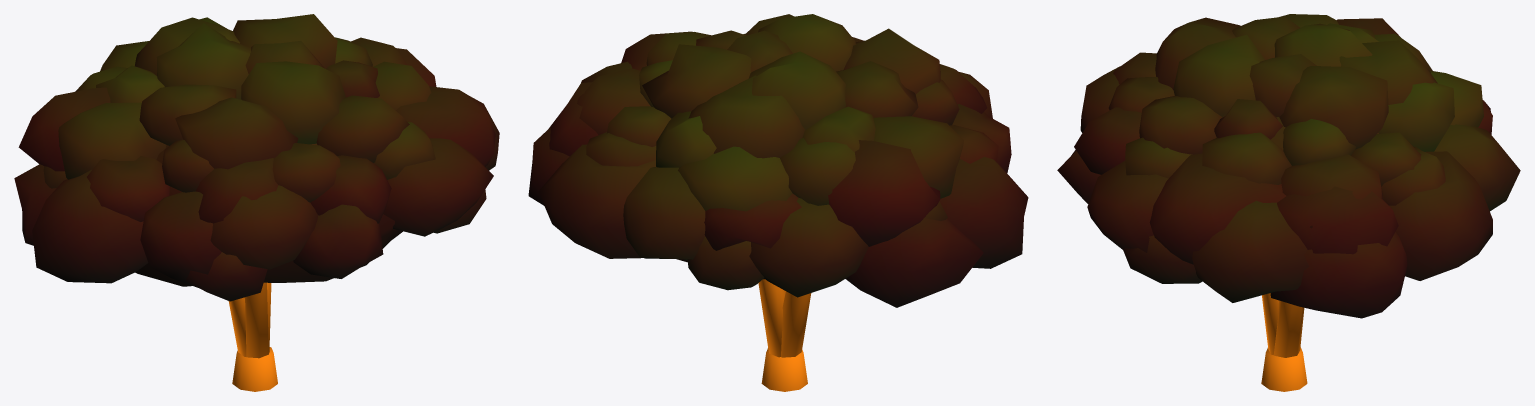
File: Oak_B.fbx
3 views of the same model, side by side, from view 1: azimuth 30°, elevation 25°; view 2: azimuth 150°, elevation 25°; view 3: azimuth 270°, elevation 25° (orthographic).
Visible parts, largest first — view 1: Oak_B; view 2: Oak_B; view 3: Oak_B.
Boxes of the visible parts, x1,y1,x2,y2 form: Oak_B: (14,14,499,391); Oak_B: (528,14,1028,391); Oak_B: (1057,14,1520,391).
Bounding box in the file's own units: 13.71 × 9.97 × 12.25.
